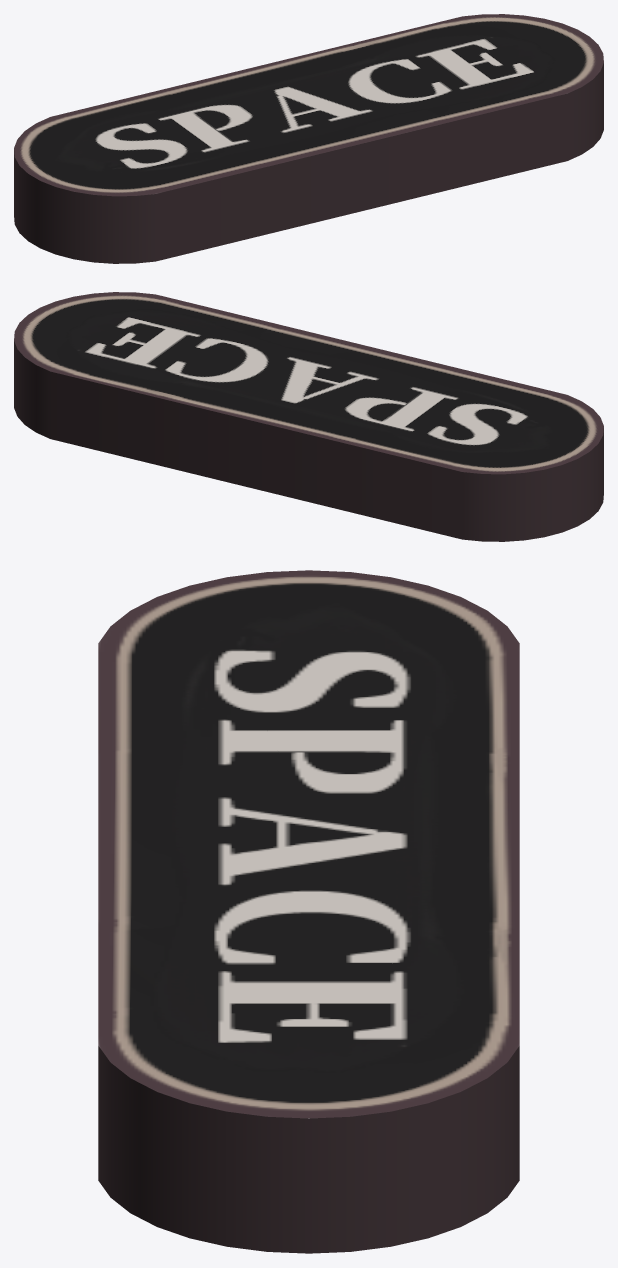
Rendered from space.obj.
The picture shows the model from 3 angles, top to bottom: view 1: azimuth 30°, elevation 25°; view 2: azimuth 150°, elevation 25°; view 3: azimuth 270°, elevation 25°; orthographic projection. The views are drawn at different scales.
Visible parts, largest first — view 1: space; view 2: space; view 3: space.
Part boxes in pixels (x1,y1,x2,y2): space: (14, 14, 603, 263); space: (14, 292, 603, 541); space: (98, 570, 519, 1253).
Bounding box in the file's own units: 1.51 × 0.1737 × 0.491.
Materials: 1 (1 with a texture image).
